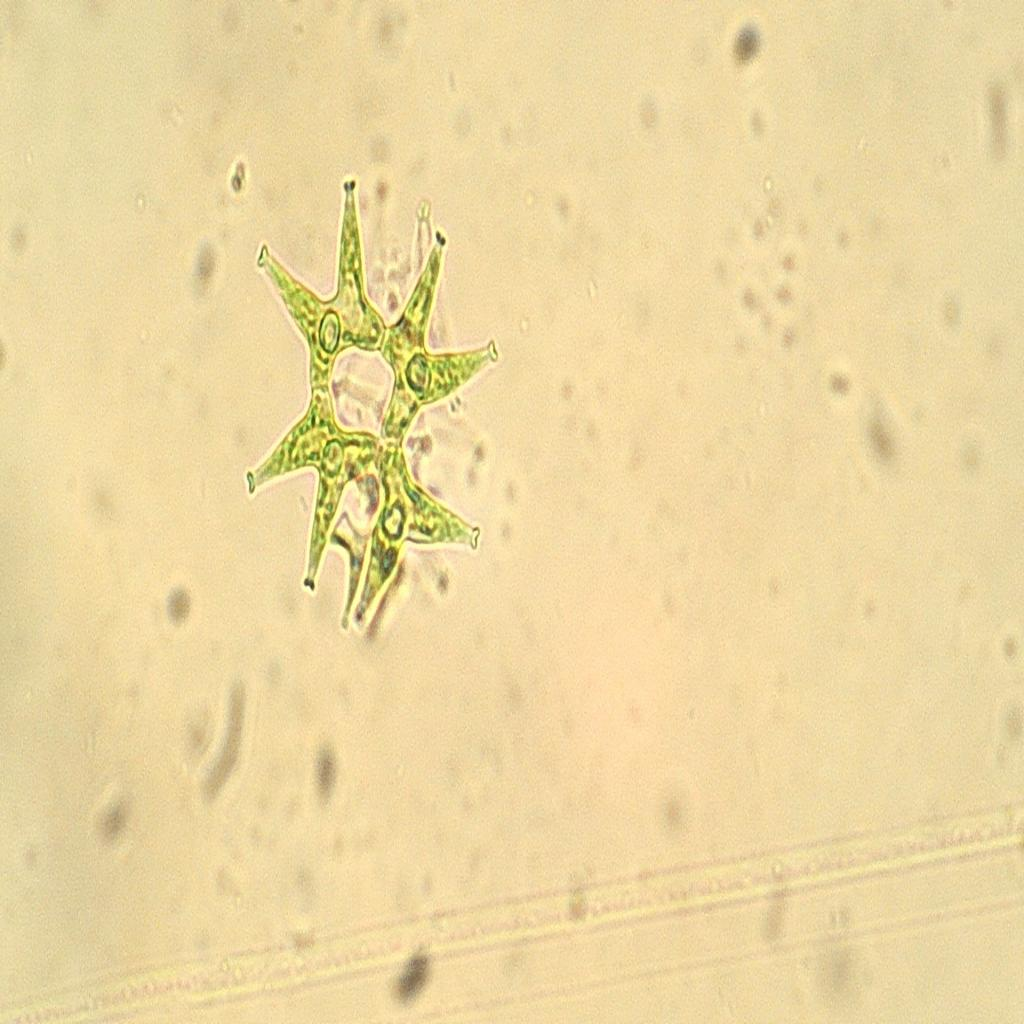Pediastrum_CT: (230, 170, 508, 640)
